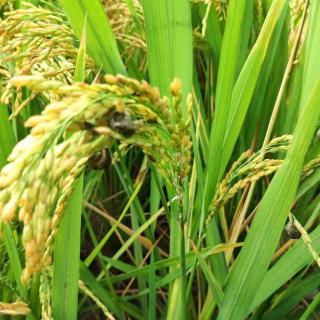Gosong-Palsu: (110, 110, 140, 136), (88, 148, 112, 170), (284, 221, 302, 239)
